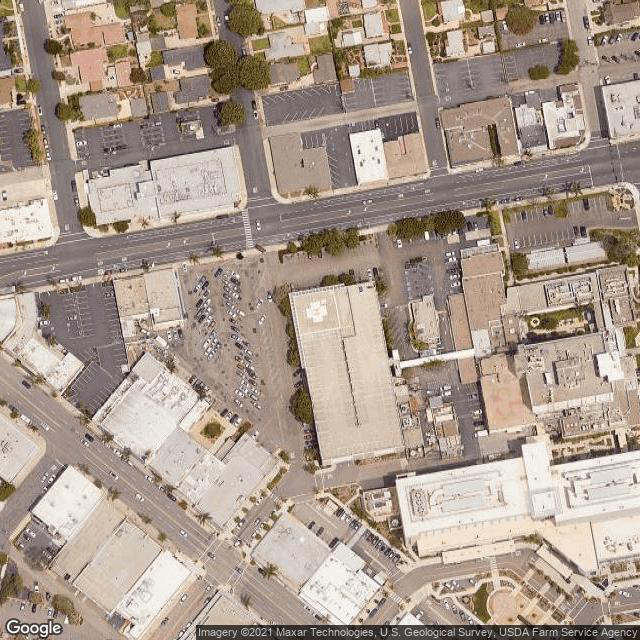Helipad: (297, 291, 335, 330)
